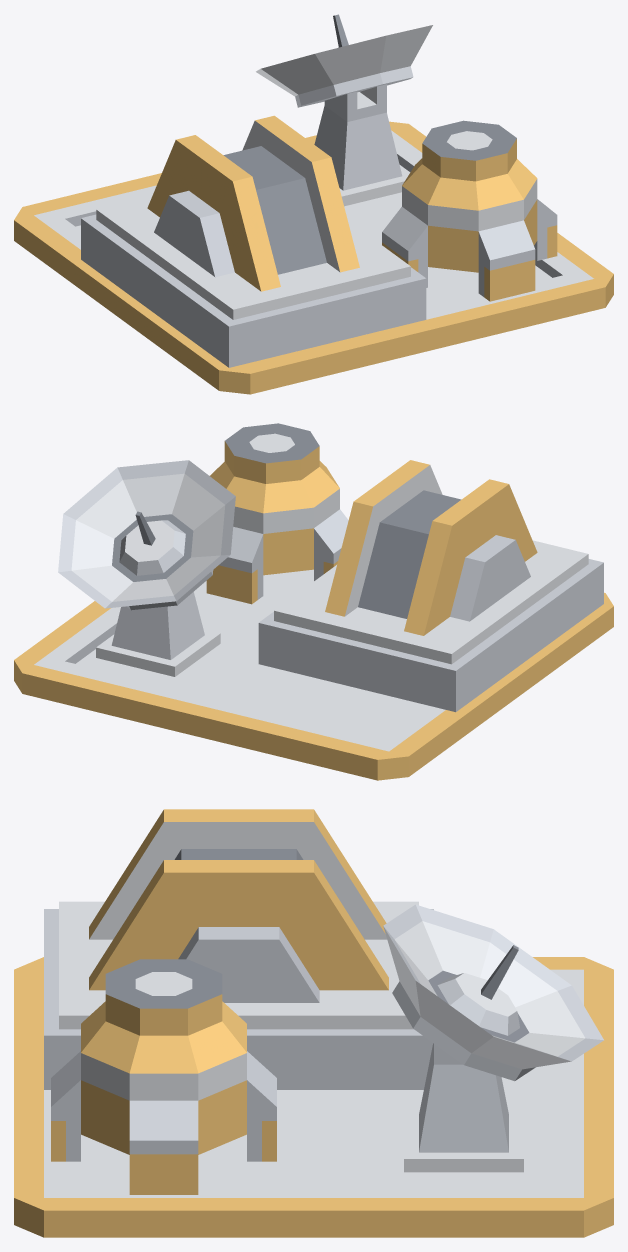
3 views of the same model, one above another, from view 1: azimuth 30°, elevation 25°; view 2: azimuth 150°, elevation 25°; view 3: azimuth 270°, elevation 25° (orthographic). The views are drawn at different scales.
Visible parts, largest first — view 1: machine_generatorLarge, platform_large, machine_barrelLarge, satelliteDish_large; view 2: machine_generatorLarge, platform_large, satelliteDish_large, machine_barrelLarge; view 3: platform_large, machine_generatorLarge, machine_barrelLarge, satelliteDish_large.
Part boxes in pixels (x1=…): machine_generatorLarge: x1=81, y1=115, x2=426, y2=367; platform_large: x1=14, y1=121, x2=613, y2=394; machine_barrelLarge: x1=382, y1=120, x2=557, y2=301; satelliteDish_large: x1=256, y1=14, x2=432, y2=206; machine_generatorLarge: x1=258, y1=460, x2=603, y2=712; platform_large: x1=14, y1=569, x2=613, y2=780; satelliteDish_large: x1=58, y1=460, x2=235, y2=676; machine_barrelLarge: x1=206, y1=423, x2=348, y2=604; platform_large: x1=14, y1=957, x2=613, y2=1237; machine_generatorLarge: x1=44, y1=809, x2=433, y2=1089; machine_barrelLarge: x1=51, y1=959, x2=276, y2=1194; satelliteDish_large: x1=383, y1=904, x2=603, y2=1172.
Bounding box in the file's own units: 2 × 0.9142 × 2.
